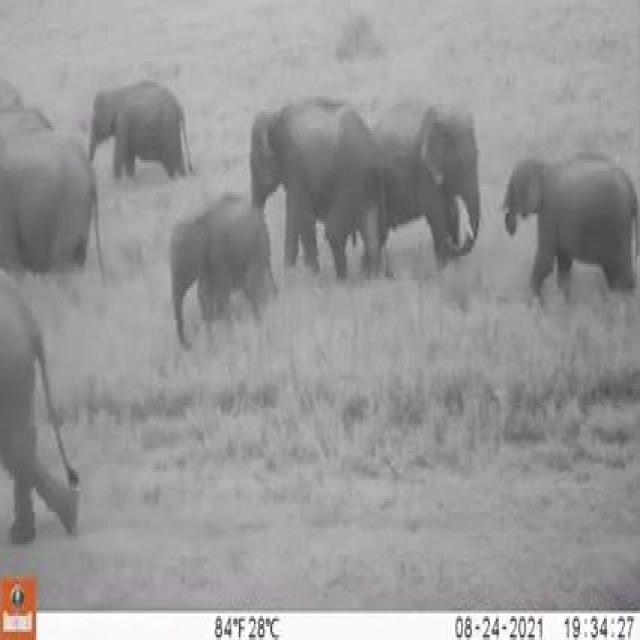Elephant: (0, 254, 83, 550), (248, 96, 390, 238), (505, 134, 630, 282), (0, 123, 107, 258), (389, 96, 492, 232), (161, 202, 274, 318), (80, 75, 188, 166)
